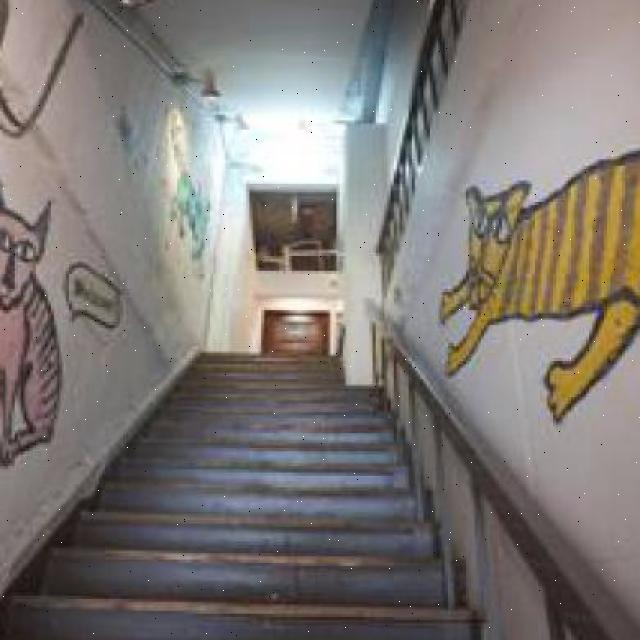stair: (25, 448, 496, 640)
